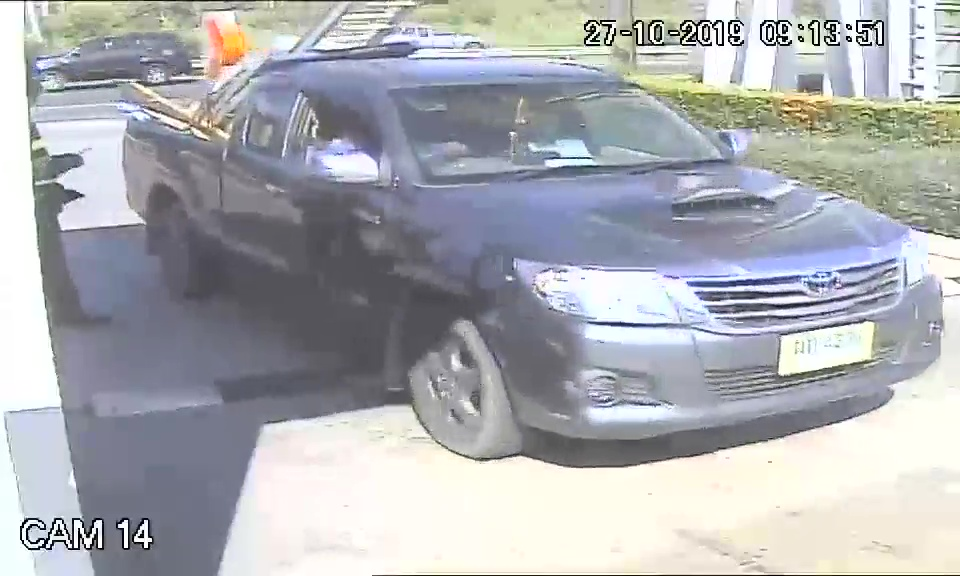pickup: (116, 55, 945, 463)
